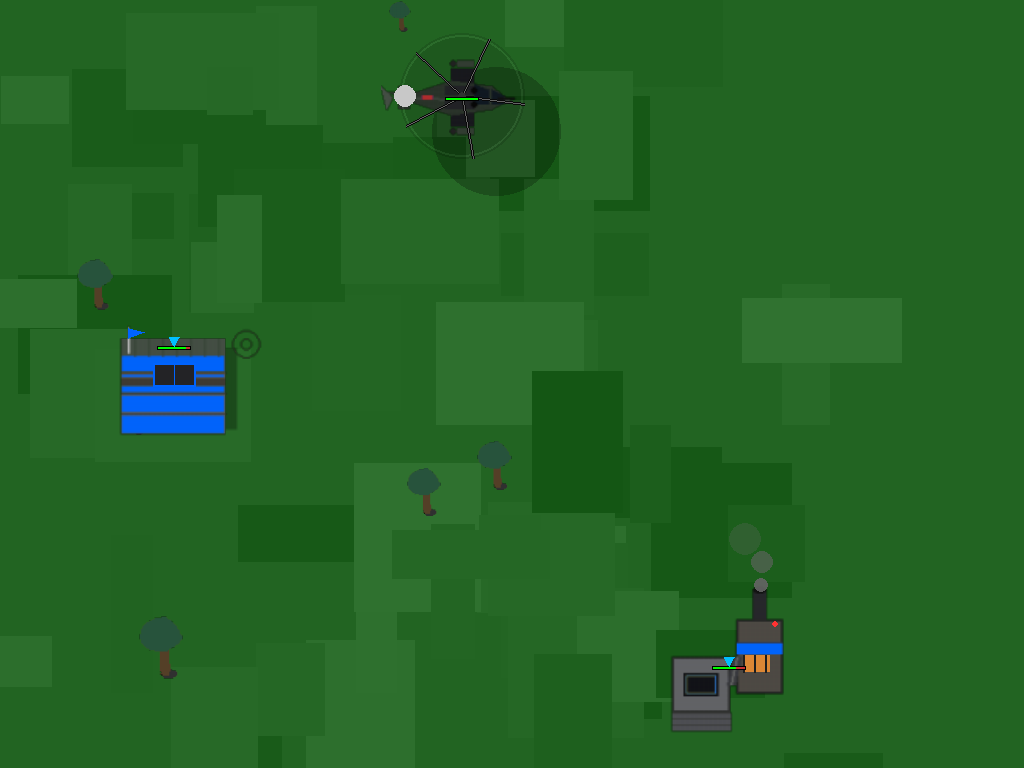APC_rus: (110, 281, 237, 408)
CombatEngineer: (415, 50, 508, 143)
FactoryBuilding: (666, 602, 793, 729)
